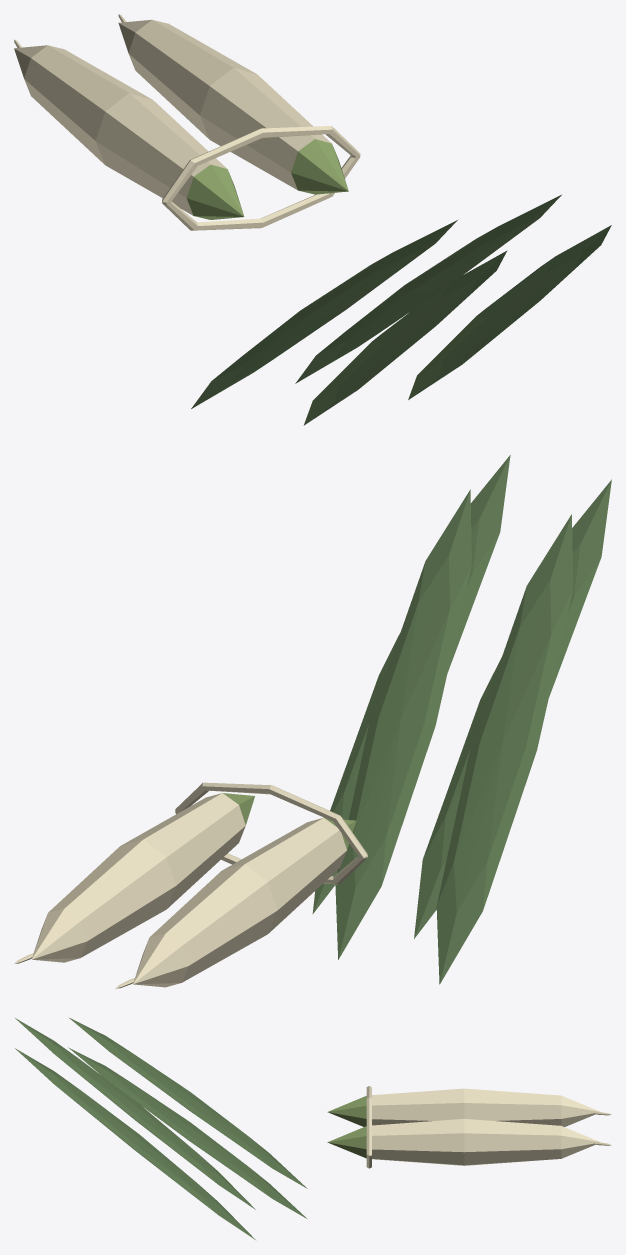
The model's file is leek.glb.
3 renders of one model, top to bottom at view 1: azimuth 30°, elevation 25°; view 2: azimuth 150°, elevation 25°; view 3: azimuth 270°, elevation 25°, orthographic. The views are drawn at different scales.
Visible parts, largest first — view 1: leek; view 2: leek; view 3: leek.
Boxes of the visible parts, x1,y1,x2,y2 form: leek: (14, 14, 611, 425); leek: (14, 455, 611, 988); leek: (15, 1018, 611, 1239).
Bounding box in the file's own units: 0.0759 × 0.1011 × 0.2834.
